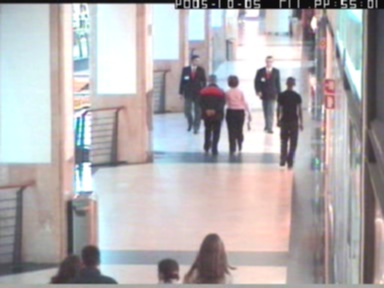person: (182, 232, 237, 284), (276, 76, 303, 167), (199, 73, 226, 155), (253, 54, 281, 133), (223, 74, 251, 153), (179, 55, 205, 135), (69, 246, 120, 284), (49, 255, 85, 284), (156, 258, 180, 284), (309, 13, 316, 52)
